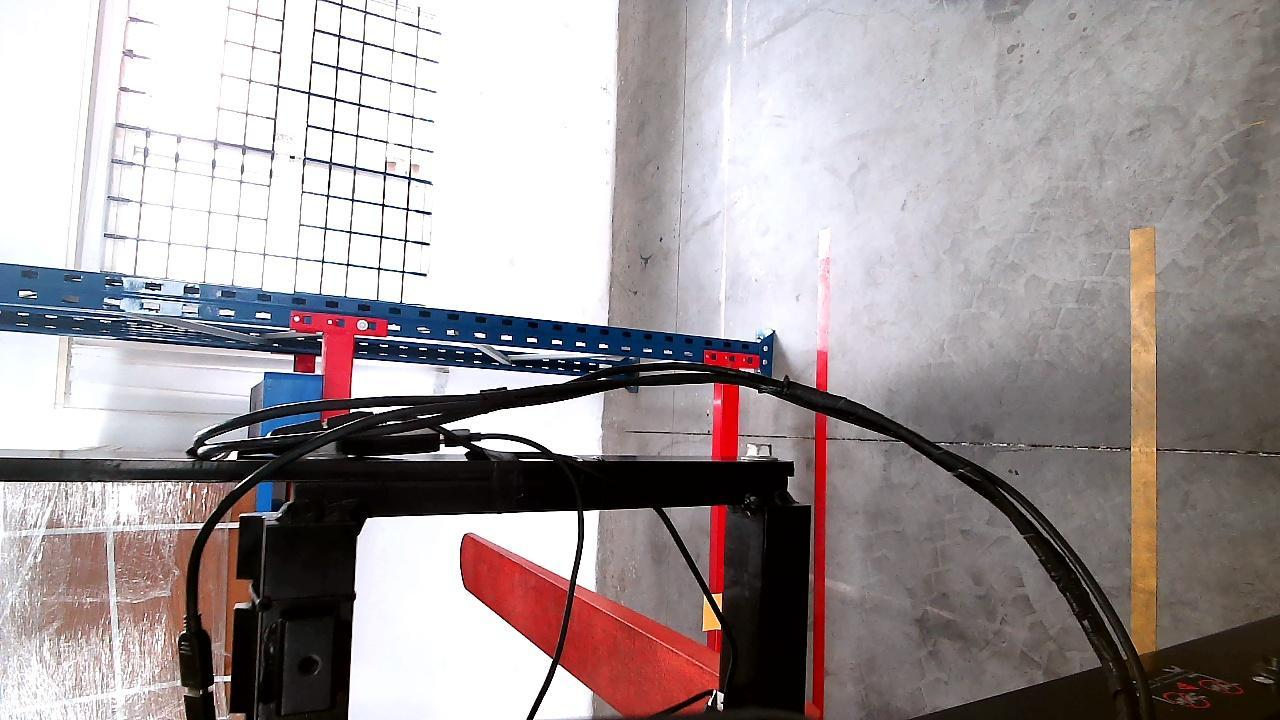red_line: (807, 232, 835, 720)
yellow_line: (1130, 222, 1161, 657)
